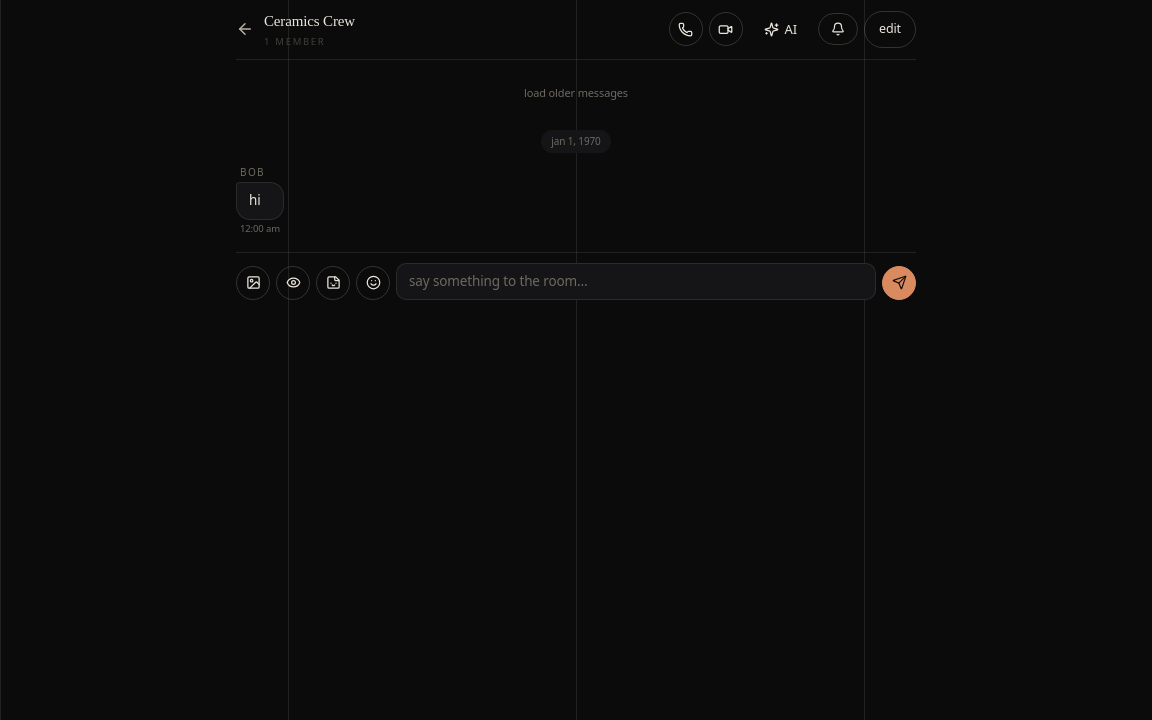
Scenario: forwarding › clicking forward opens the picker, lazy-loading conversations and rooms
This screenshot has width=1152, height=720.
Click the button "hi" at (260,201), box x1=236 y1=182 x2=284 y2=220
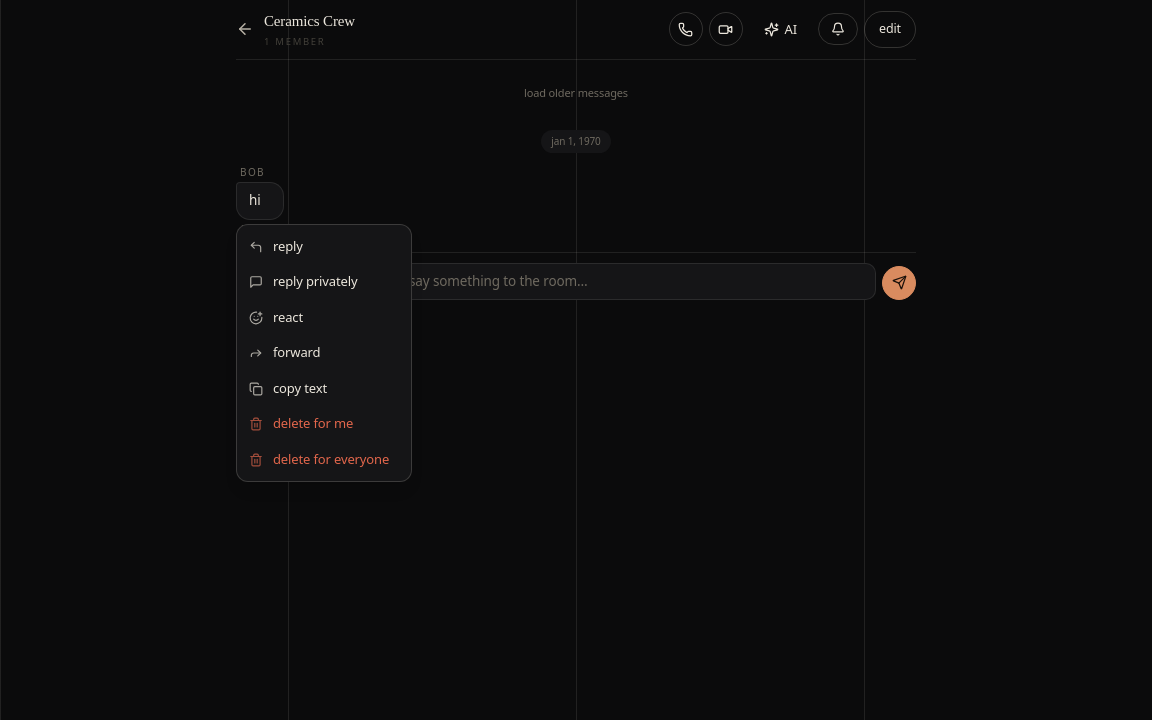
Click the menu item "forward" at (324,353), box x1=237 y1=335 x2=411 y2=371
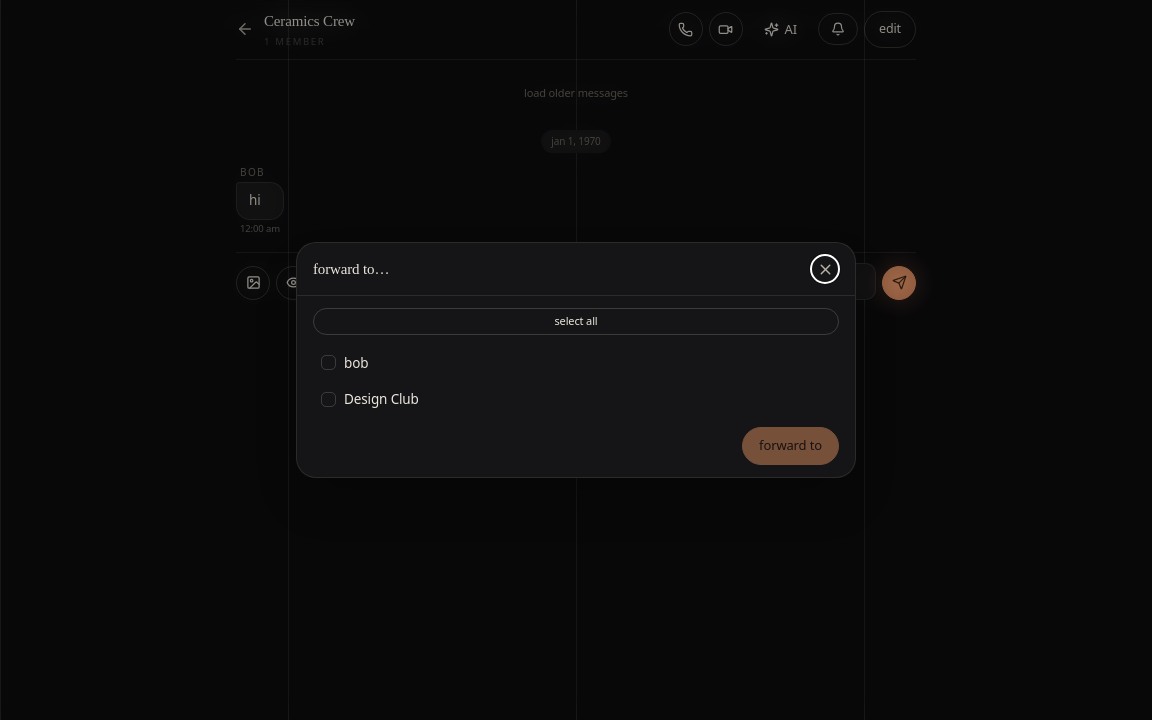
expect the button "Design Club" is shown: met, box x1=313 y1=383 x2=839 y2=415
